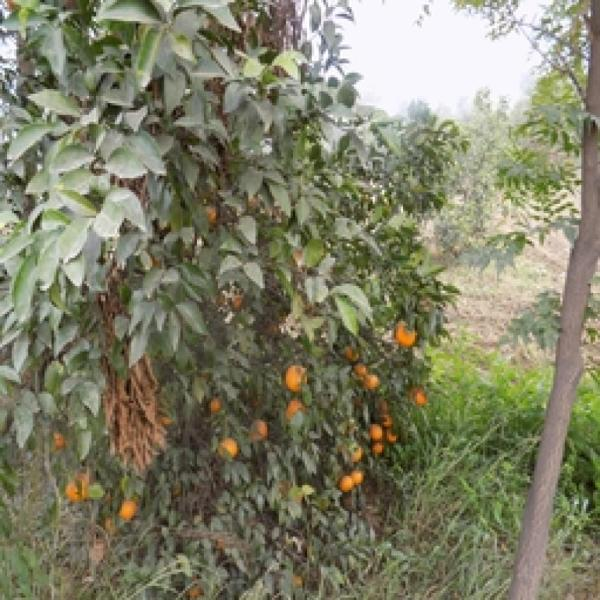Sana: (276, 360, 312, 398), (389, 314, 422, 354), (62, 469, 94, 505), (114, 496, 143, 527), (246, 418, 275, 448), (404, 382, 432, 413), (283, 399, 311, 428), (214, 437, 244, 462), (46, 428, 70, 454), (334, 473, 360, 495), (203, 394, 226, 418), (347, 466, 370, 490), (343, 442, 368, 462), (340, 344, 364, 362), (367, 423, 387, 443), (384, 430, 404, 450), (362, 373, 382, 392), (370, 443, 390, 462), (351, 362, 370, 378), (381, 415, 398, 428)
